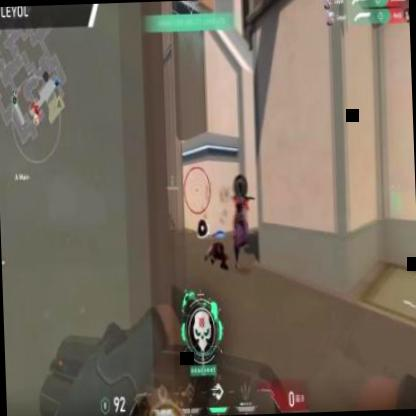enemy: (231, 172, 252, 270)
enemy_head: (234, 176, 248, 198)
